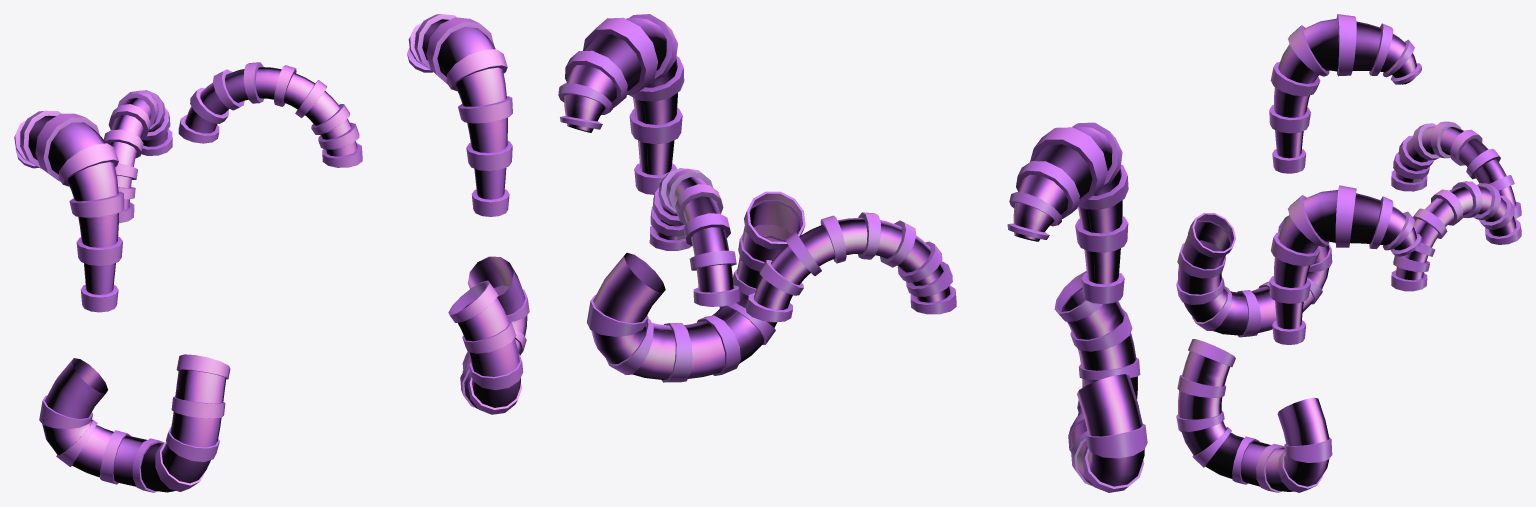
The model's file is fuelSystem4NEW.fbx.
3 renders of one model, left to right at view 1: azimuth 30°, elevation 25°; view 2: azimuth 150°, elevation 25°; view 3: azimuth 270°, elevation 25°, orthographic. The views are drawn at different scales.
Visible parts, largest first — view 1: fuelSystem4NEW, fuelSystem3.4NEW, fuelSystem2.4NEW; view 2: fuelSystem4NEW, fuelSystem3.4NEW, fuelSystem2.4NEW; view 3: fuelSystem3.4NEW, fuelSystem4NEW, fuelSystem2.4NEW.
Part boxes in pixels (box(x1,y1,x2,y2)): fuelSystem4NEW: box(39, 256, 529, 492); fuelSystem3.4NEW: box(14, 14, 512, 312); fuelSystem2.4NEW: box(103, 62, 362, 223); fuelSystem4NEW: box(587, 191, 1147, 492); fuelSystem3.4NEW: box(558, 14, 1128, 304); fuelSystem2.4NEW: box(649, 168, 956, 322); fuelSystem3.4NEW: box(1269, 14, 1421, 344); fuelSystem4NEW: box(1176, 212, 1332, 492); fuelSystem2.4NEW: box(1391, 121, 1521, 291).
Size of the model in its own units: 11.28 by 7.78 by 7.6.
